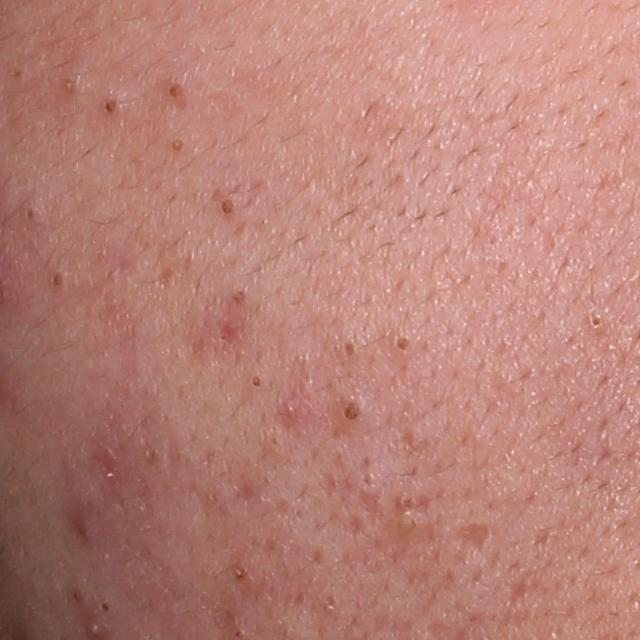atrophic_scar: (448, 518, 497, 554), (356, 485, 387, 527), (216, 319, 237, 346)
comedo: (340, 398, 365, 427), (44, 268, 66, 294), (97, 96, 122, 118), (17, 203, 42, 225), (337, 338, 360, 361), (388, 337, 413, 357), (163, 80, 183, 105), (228, 560, 250, 582), (68, 587, 88, 609), (57, 75, 77, 96), (585, 308, 604, 330), (217, 196, 236, 217), (246, 374, 265, 392), (167, 137, 186, 155), (94, 598, 113, 615)
